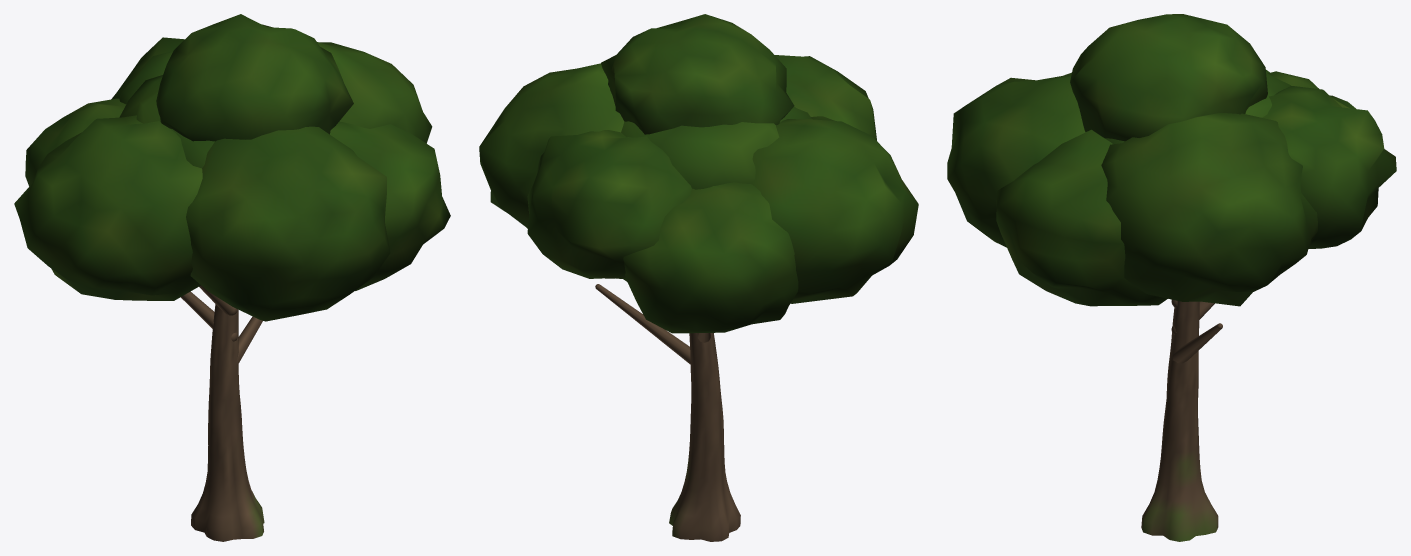
The model's file is Oak2.glb.
3 renders of one model, left to right at view 1: azimuth 30°, elevation 25°; view 2: azimuth 150°, elevation 25°; view 3: azimuth 270°, elevation 25°, orthographic. The views are drawn at different scales.
Parts seen in each view (by area): view 1: Leaves, Trunk; view 2: Leaves, Trunk; view 3: Leaves, Trunk.
Part boxes in pixels (x1,y1,x2,y2): Leaves: (14, 14, 450, 321); Trunk: (180, 285, 264, 541); Leaves: (479, 14, 918, 333); Trunk: (595, 284, 740, 541); Leaves: (947, 14, 1396, 306); Trunk: (1141, 299, 1222, 541).
Bounding box in the file's own units: 7.58 × 9.12 × 7.28.
